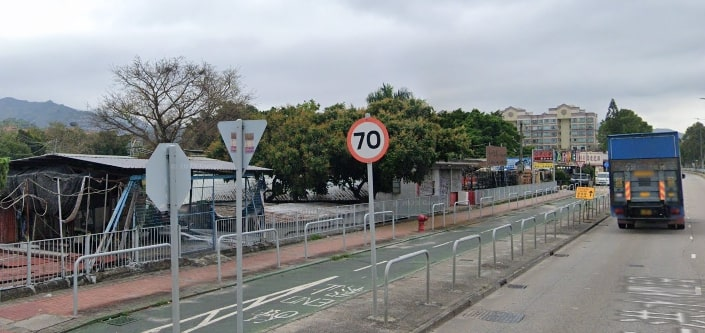Speed Limit: (345, 114, 394, 165)
